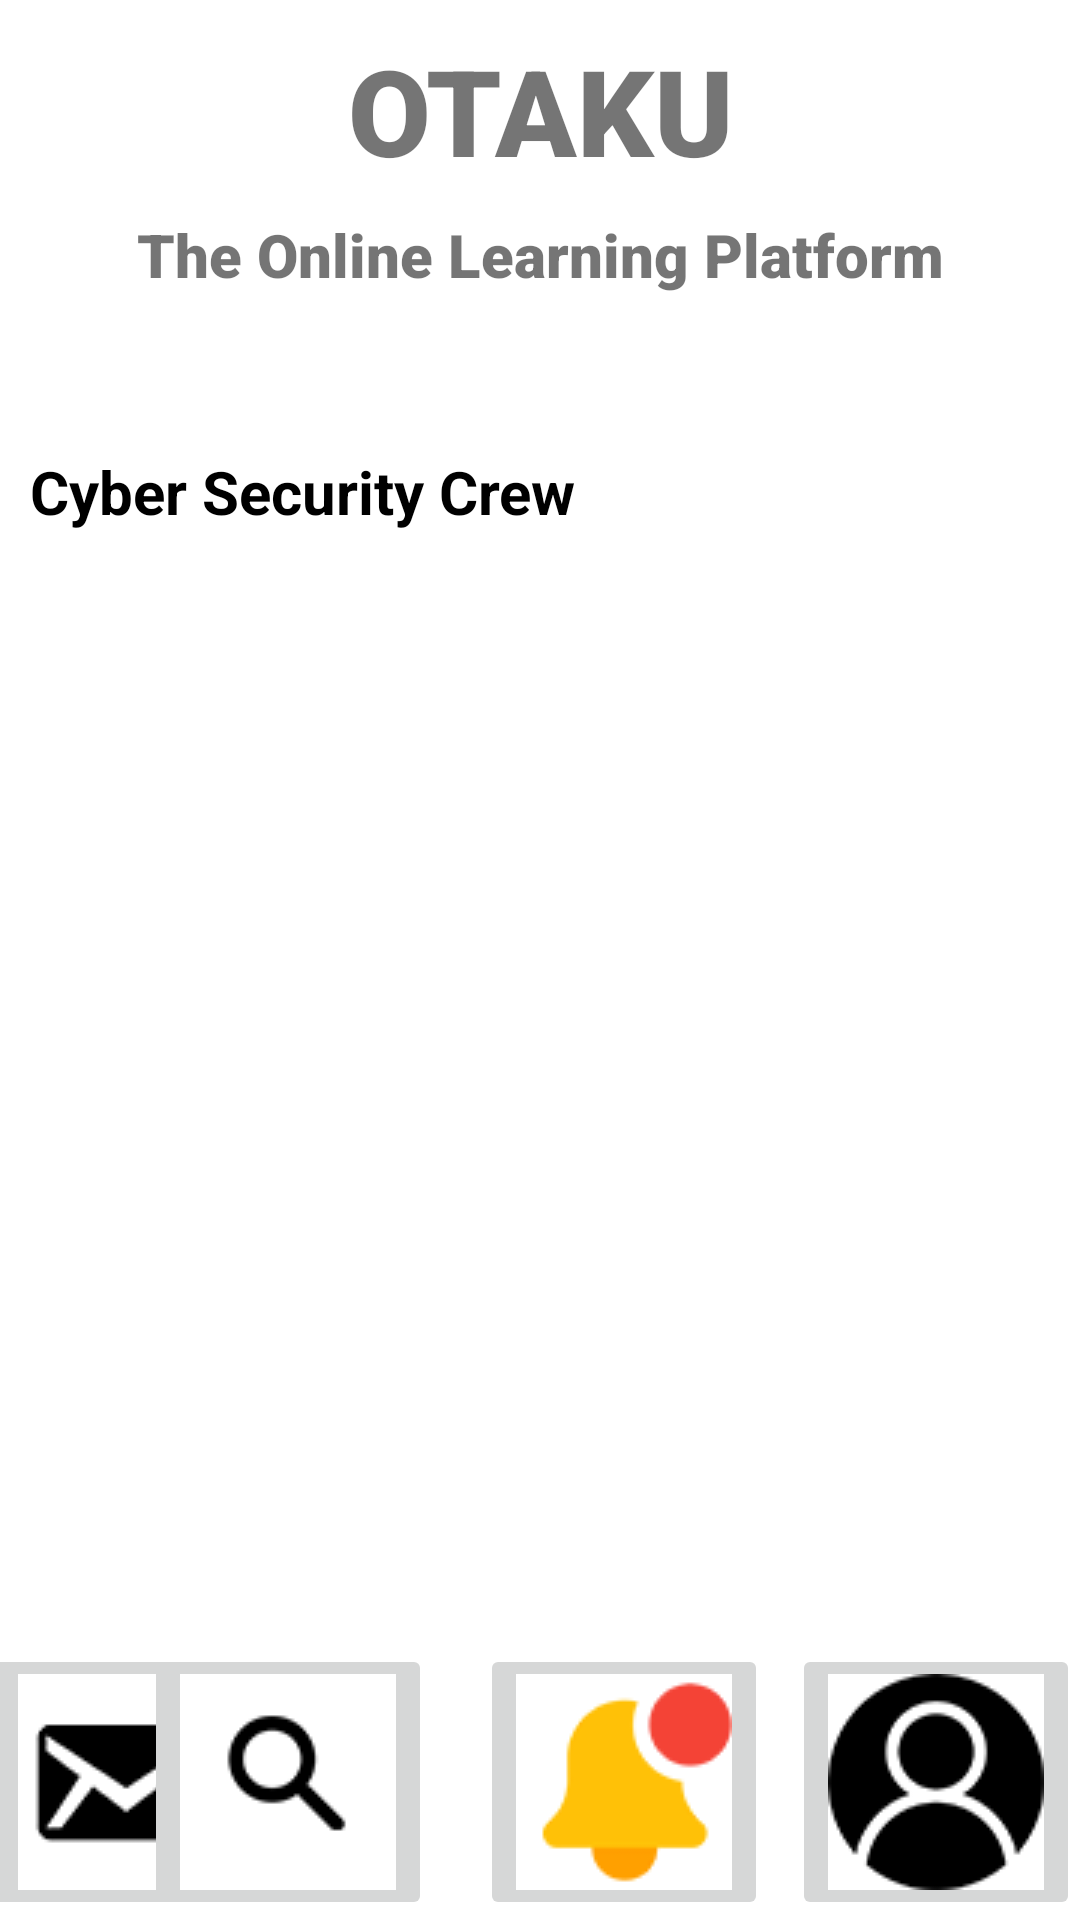

Point at icon controls on the screen. Image size 1080px×1920px, points as (x,y).
notification: (624,1782)
profile: (936,1782)
search: (282,1782)
